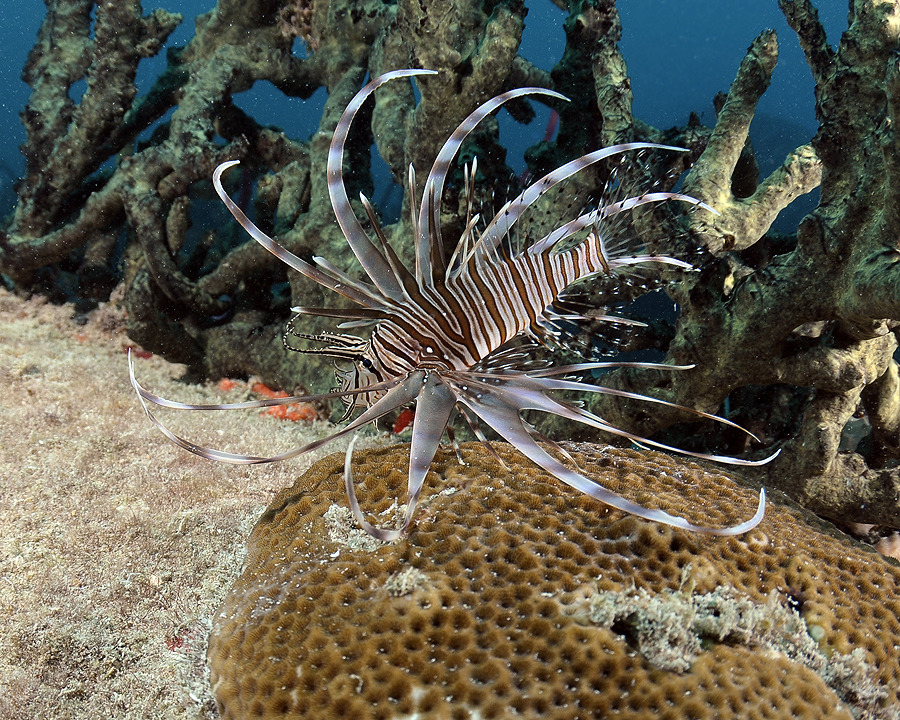Pterois_volitans: (191, 71, 756, 539)
